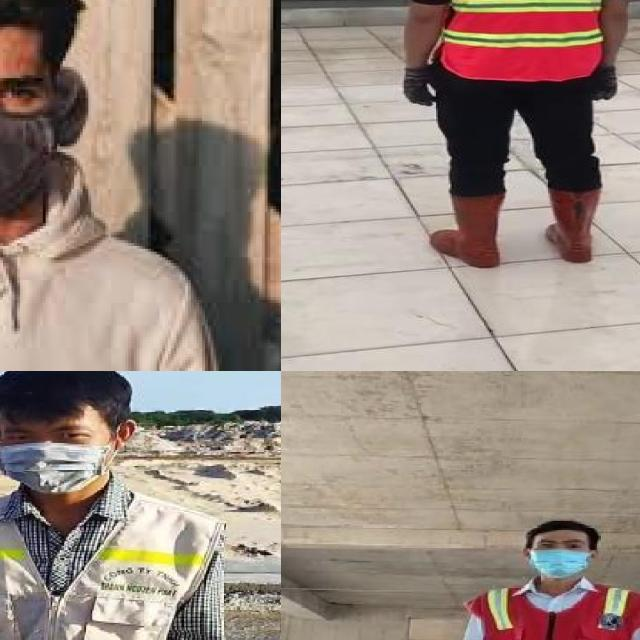Ear-protection: (46, 58, 94, 146)
boots: (431, 189, 502, 273), (544, 184, 600, 265)
face_mask: (0, 413, 116, 490), (525, 537, 592, 583)
hand_glove: (401, 67, 443, 107), (590, 66, 624, 103)
head_nohelmet: (0, 371, 138, 415), (521, 515, 597, 542)
person: (0, 0, 262, 371), (390, 0, 640, 272), (0, 371, 238, 640), (445, 510, 640, 640)
vest: (0, 490, 222, 640), (439, 0, 620, 79), (462, 578, 640, 640)
